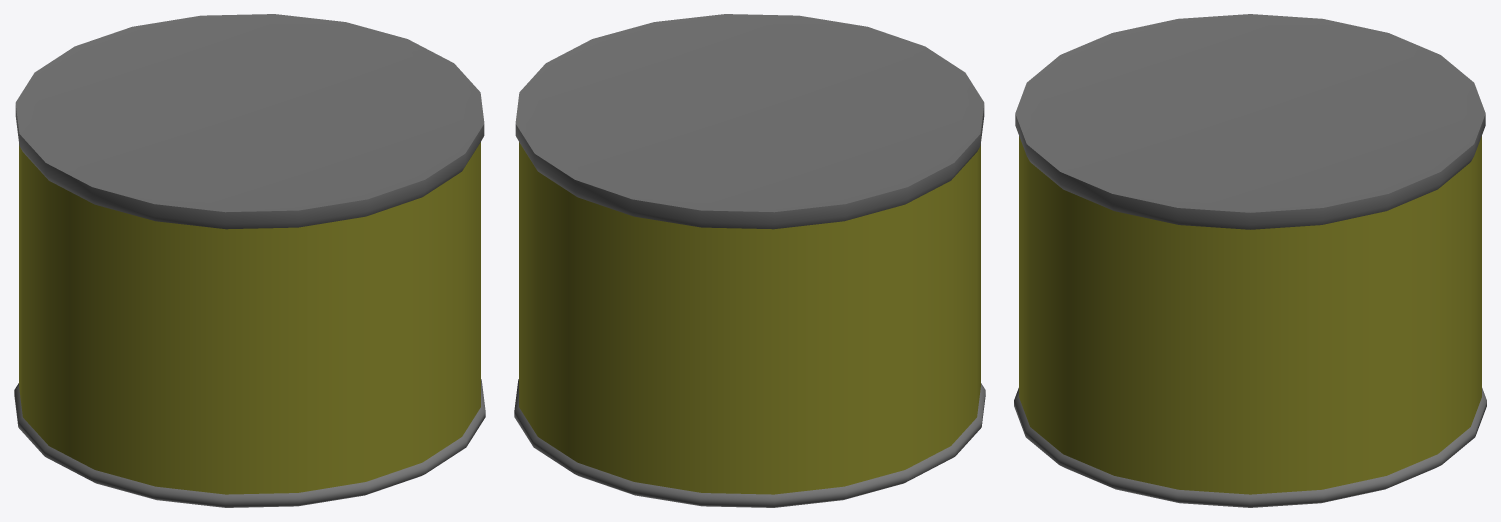
Rendered from LataConservaBModel 1.fbx.
3 views of the same model, side by side, from view 1: azimuth 30°, elevation 25°; view 2: azimuth 150°, elevation 25°; view 3: azimuth 270°, elevation 25° (orthographic).
Parts seen in each view (by area): view 1: Cylinder.003, n_lp; view 2: Cylinder.003, n_lp; view 3: Cylinder.003, n_lp.
Part boxes in pixels (x1,y1,x2,y2): Cylinder.003: [19, 142, 480, 494]; n_lp: [14, 14, 485, 507]; Cylinder.003: [519, 142, 980, 494]; n_lp: [514, 14, 985, 507]; Cylinder.003: [1019, 136, 1481, 494]; n_lp: [1014, 14, 1486, 507].
Bounding box in the file's own units: 41.94 × 29.14 × 41.94.
